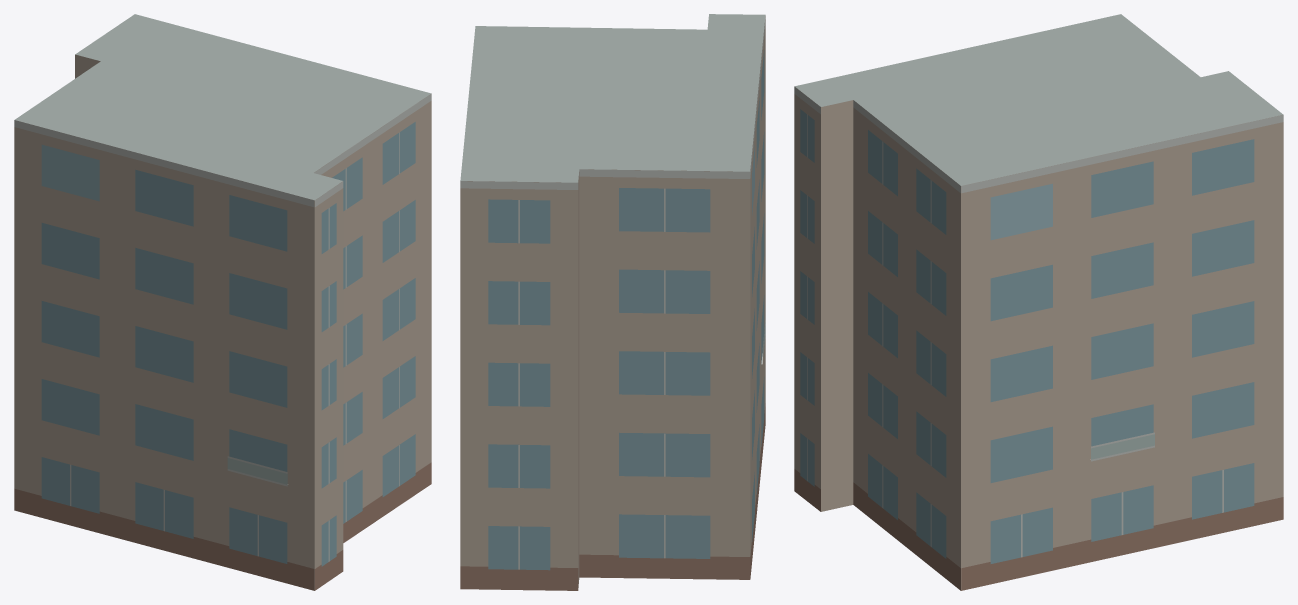
File: survey-upis-32669593.glb
3 renders of one model, left to right at view 1: azimuth 30°, elevation 25°; view 2: azimuth 150°, elevation 25°; view 3: azimuth 270°, elevation 25°, orthographic. The views are drawn at different scales.
Parts seen in each view (by area): view 1: survey-upis-32669593.tmp; view 2: survey-upis-32669593.tmp; view 3: survey-upis-32669593.tmp.
Part boxes in pixels (left/top/right/bottom): survey-upis-32669593.tmp: left=14, top=14, right=431, bottom=590; survey-upis-32669593.tmp: left=460, top=14, right=765, bottom=590; survey-upis-32669593.tmp: left=794, top=14, right=1283, bottom=590.
Size of the model in its own units: 12.22 by 13.4 by 14.68.
